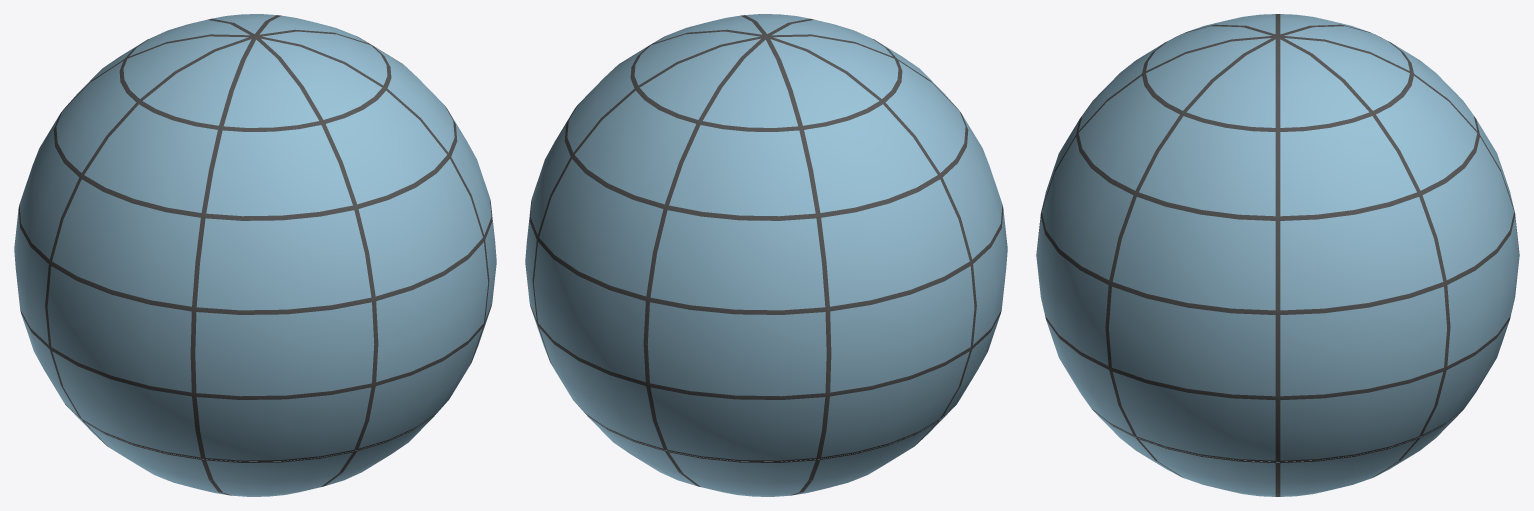
Rendered from Map 5.fbx.
3 renders of one model, left to right at view 1: azimuth 30°, elevation 25°; view 2: azimuth 150°, elevation 25°; view 3: azimuth 270°, elevation 25°, orthographic.
Visible parts, largest first — view 1: Sphere_whole, Sphere_Cutout; view 2: Sphere_Cutout, Sphere_whole; view 3: Sphere_Cutout, Sphere_whole.
Part boxes in pixels (<box>): Sphere_whole: <box>195,38,488,496</box>; Sphere_Cutout: <box>14,14,496,495</box>; Sphere_Cutout: <box>525,15,1007,496</box>; Sphere_whole: <box>745,14,955,106</box>; Sphere_Cutout: <box>1105,14,1519,496</box>; Sphere_whole: <box>1036,26,1272,475</box>.
Size of the model in its own units: 7593 by 7580 by 7593.
